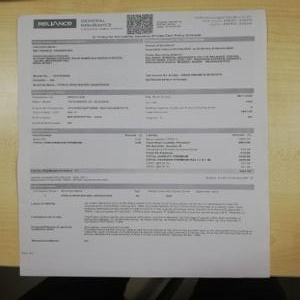table: (29, 184, 254, 243), (30, 125, 248, 173), (28, 43, 253, 87), (31, 94, 255, 127)
